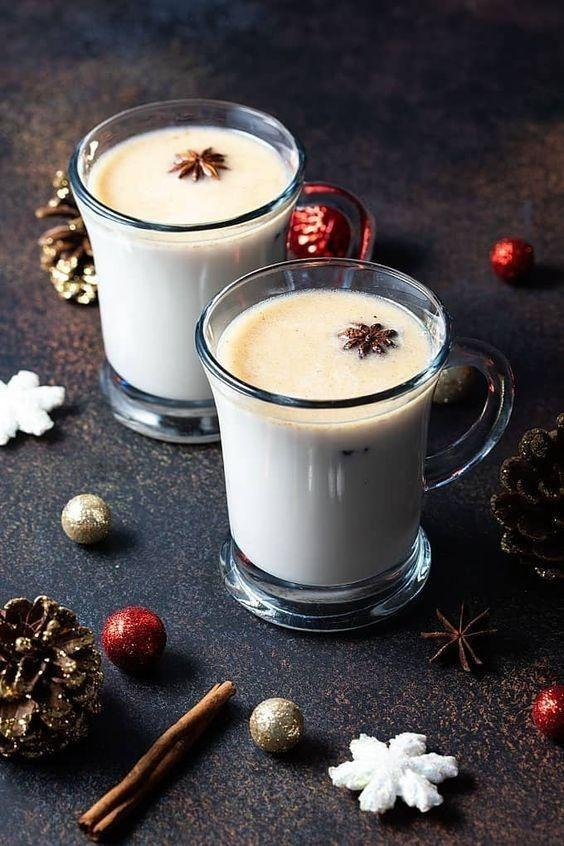glass-mug: (190, 250, 520, 640), (65, 95, 371, 447)
